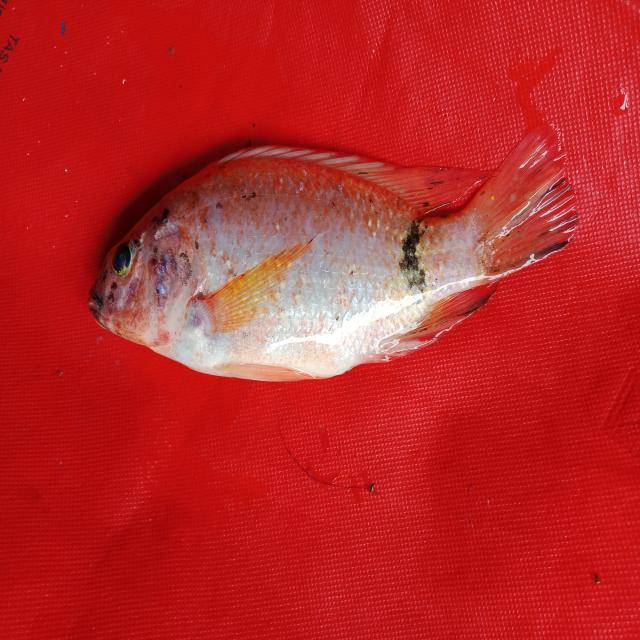ikan: (77, 110, 581, 407)
